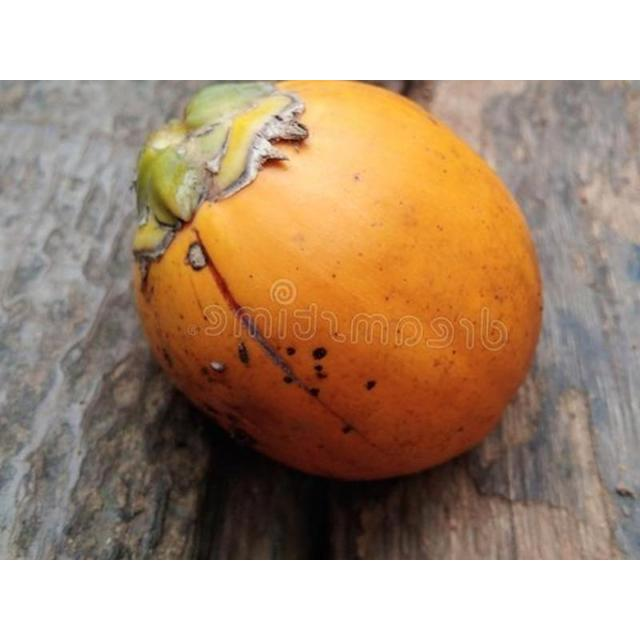good: (130, 80, 544, 485)
